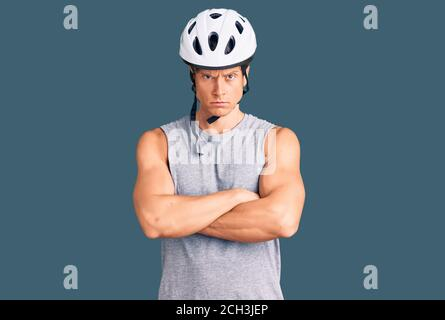helmet: (179, 7, 257, 116)
